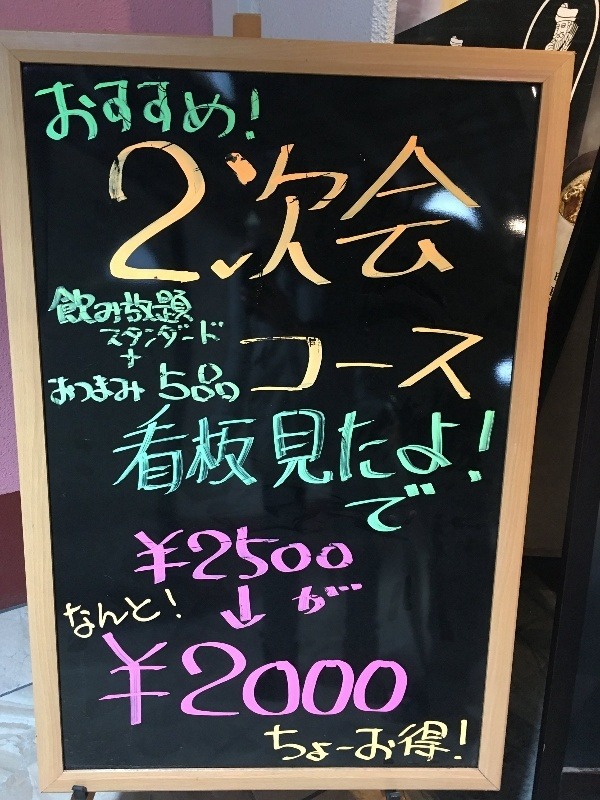text: (113, 132, 128, 292), (129, 132, 144, 292), (145, 132, 160, 292), (161, 132, 176, 292), (177, 132, 192, 292), (193, 132, 208, 292), (209, 132, 224, 292), (225, 132, 240, 292), (241, 132, 256, 292), (257, 132, 272, 292), (273, 132, 288, 292), (289, 132, 304, 292), (305, 132, 320, 292), (321, 132, 336, 292), (337, 132, 352, 292), (353, 132, 368, 292), (369, 132, 384, 292), (385, 132, 400, 292), (401, 132, 416, 292), (417, 132, 432, 292), (433, 132, 448, 292), (449, 132, 464, 292), (465, 132, 478, 292), (97, 621, 112, 727), (113, 621, 128, 727), (129, 621, 144, 727), (145, 621, 160, 727), (161, 621, 176, 727), (177, 621, 192, 727), (193, 621, 208, 727), (209, 621, 224, 727), (225, 621, 240, 727), (241, 621, 256, 727), (257, 621, 272, 727), (273, 621, 288, 727), (289, 621, 304, 727), (305, 621, 320, 727), (321, 621, 336, 727), (337, 621, 352, 727), (353, 621, 368, 727), (369, 621, 384, 727), (385, 621, 400, 727), (113, 404, 128, 500), (129, 404, 144, 500), (145, 404, 160, 500), (161, 404, 176, 500), (177, 404, 192, 500), (193, 404, 208, 500), (209, 404, 224, 500), (225, 404, 240, 500), (241, 404, 256, 500), (257, 404, 272, 500), (273, 404, 288, 500), (289, 404, 304, 500), (305, 404, 320, 500), (321, 404, 336, 500), (337, 404, 352, 500), (353, 404, 368, 500), (369, 404, 384, 500), (385, 404, 400, 500), (401, 404, 416, 500), (417, 404, 432, 500), (433, 404, 448, 500), (449, 404, 464, 500), (465, 404, 480, 500), (481, 404, 495, 500), (33, 76, 48, 154), (49, 76, 64, 154), (65, 76, 80, 154), (81, 76, 96, 154), (97, 76, 112, 154), (113, 76, 128, 154), (129, 76, 144, 154), (145, 76, 160, 154), (161, 76, 176, 154), (177, 76, 192, 154), (193, 76, 208, 154), (209, 76, 224, 154), (225, 76, 240, 154), (241, 76, 256, 154), (401, 621, 412, 727), (241, 333, 256, 400), (257, 333, 272, 400), (273, 333, 288, 400), (289, 333, 304, 400), (305, 333, 320, 400), (321, 333, 336, 400), (337, 333, 352, 400), (353, 333, 368, 400), (369, 333, 384, 400), (385, 333, 400, 400), (401, 333, 416, 400), (417, 333, 432, 400), (433, 333, 448, 400), (449, 333, 464, 400), (465, 333, 480, 400), (65, 583, 80, 648), (81, 583, 96, 648), (97, 583, 112, 648), (113, 583, 128, 648), (129, 583, 144, 648), (145, 583, 160, 648), (161, 583, 176, 648), (145, 529, 160, 589), (161, 529, 176, 589), (177, 529, 192, 589), (193, 529, 208, 589), (209, 529, 224, 589), (225, 529, 240, 589), (241, 529, 256, 589), (257, 529, 272, 589), (273, 529, 288, 589), (289, 529, 304, 589), (305, 529, 320, 589), (321, 529, 336, 589), (337, 529, 352, 589), (353, 482, 368, 538), (369, 482, 384, 538), (385, 482, 400, 538), (401, 482, 416, 538), (417, 482, 432, 538), (225, 359, 241, 404), (49, 286, 64, 333), (65, 286, 80, 333), (81, 286, 96, 333), (97, 286, 112, 333), (113, 286, 128, 333), (129, 286, 144, 333), (145, 286, 160, 333), (161, 286, 176, 333), (177, 286, 192, 333), (225, 586, 240, 632), (241, 586, 256, 632), (161, 359, 176, 404), (177, 359, 192, 404), (193, 359, 208, 404), (209, 359, 224, 404), (273, 718, 288, 763), (289, 718, 304, 763), (305, 718, 320, 763), (321, 718, 336, 763), (337, 718, 352, 763), (353, 718, 368, 763), (369, 718, 384, 763), (385, 718, 400, 763), (401, 718, 416, 763), (417, 718, 432, 763), (433, 718, 448, 763), (449, 718, 464, 763), (133, 529, 144, 589), (305, 581, 320, 618), (321, 581, 336, 618), (337, 581, 352, 618), (177, 583, 185, 648), (290, 581, 304, 618), (209, 319, 225, 350), (49, 374, 64, 406), (65, 374, 80, 406), (81, 374, 96, 406), (97, 374, 112, 406), (113, 374, 128, 406), (129, 374, 144, 406), (113, 319, 128, 350), (129, 319, 144, 350), (145, 319, 160, 350), (161, 319, 176, 350), (177, 319, 192, 350), (193, 319, 208, 350), (257, 586, 266, 632), (99, 319, 112, 350), (353, 581, 363, 618), (264, 718, 272, 763), (433, 482, 439, 538), (110, 132, 112, 292), (257, 76, 261, 154), (129, 348, 142, 371), (481, 333, 485, 400), (348, 482, 352, 538), (120, 348, 128, 371), (220, 586, 224, 632), (193, 286, 196, 333), (157, 359, 160, 404), (465, 718, 468, 763), (238, 333, 240, 400), (62, 583, 64, 648), (95, 621, 96, 727), (145, 374, 147, 406), (353, 529, 354, 589), (47, 286, 48, 333)
